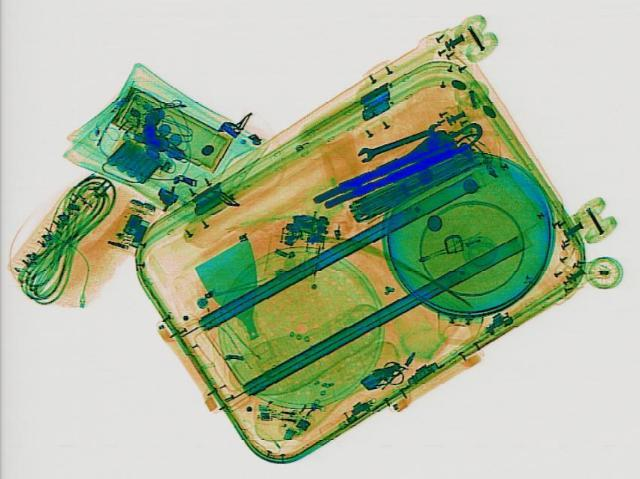Wrench: (350, 117, 448, 162)
